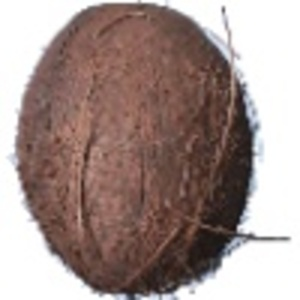coco: (9, 1, 265, 300)
